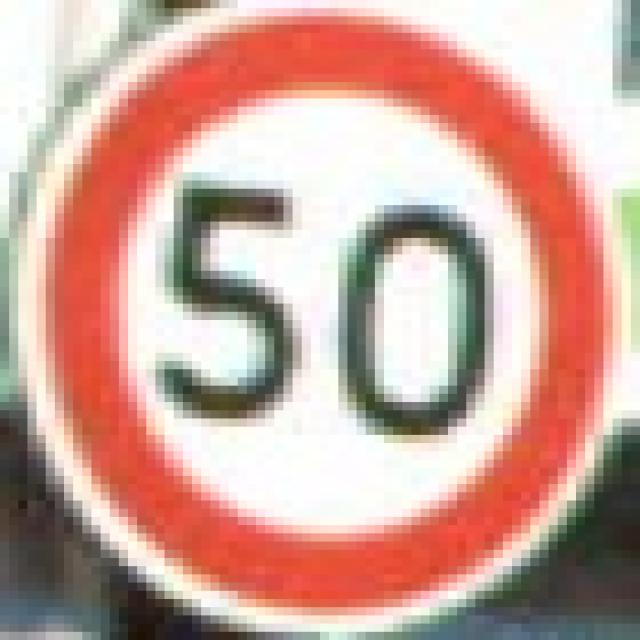speed_50: (0, 0, 631, 632)
